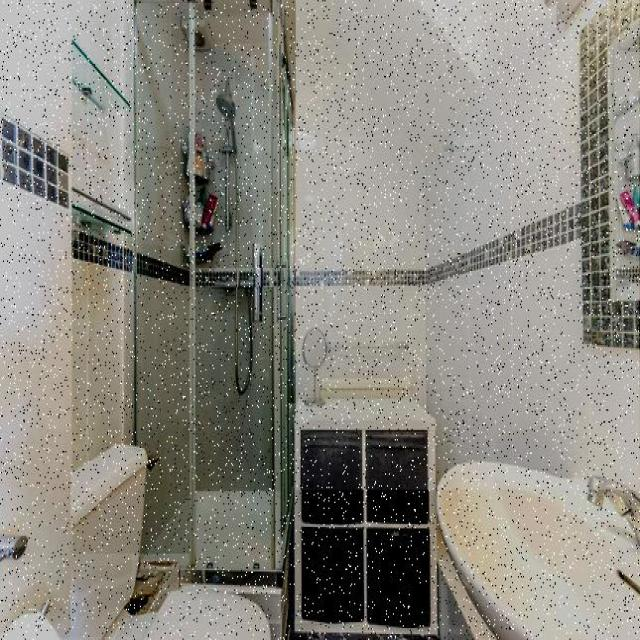Wall: (296, 0, 639, 490), (0, 0, 132, 637), (73, 2, 190, 554), (289, 42, 426, 403), (284, 0, 478, 156), (196, 0, 278, 268), (196, 289, 274, 491), (73, 83, 131, 218), (240, 289, 251, 384)
